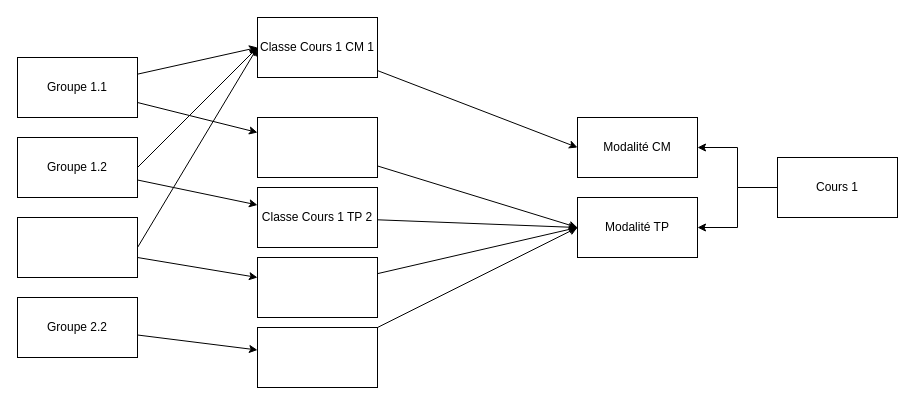
The diagram is 915 pixels wide and 405 high, and some of its shapes have lost their labels. The box of each missing label's shape, as (x1, y1, x2, y2) in pixels:
Classe Cours 1 TP 1: (256, 116, 378, 178)
Classe Cours 1 TP 3: (256, 256, 378, 318)
Classe Cours 1 TP4: (256, 326, 378, 388)
Groupe 2.1: (16, 216, 138, 278)
